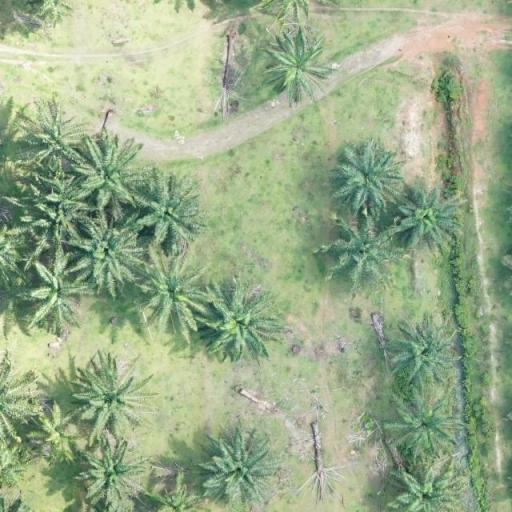Ganoderma: (33, 408, 75, 452)
